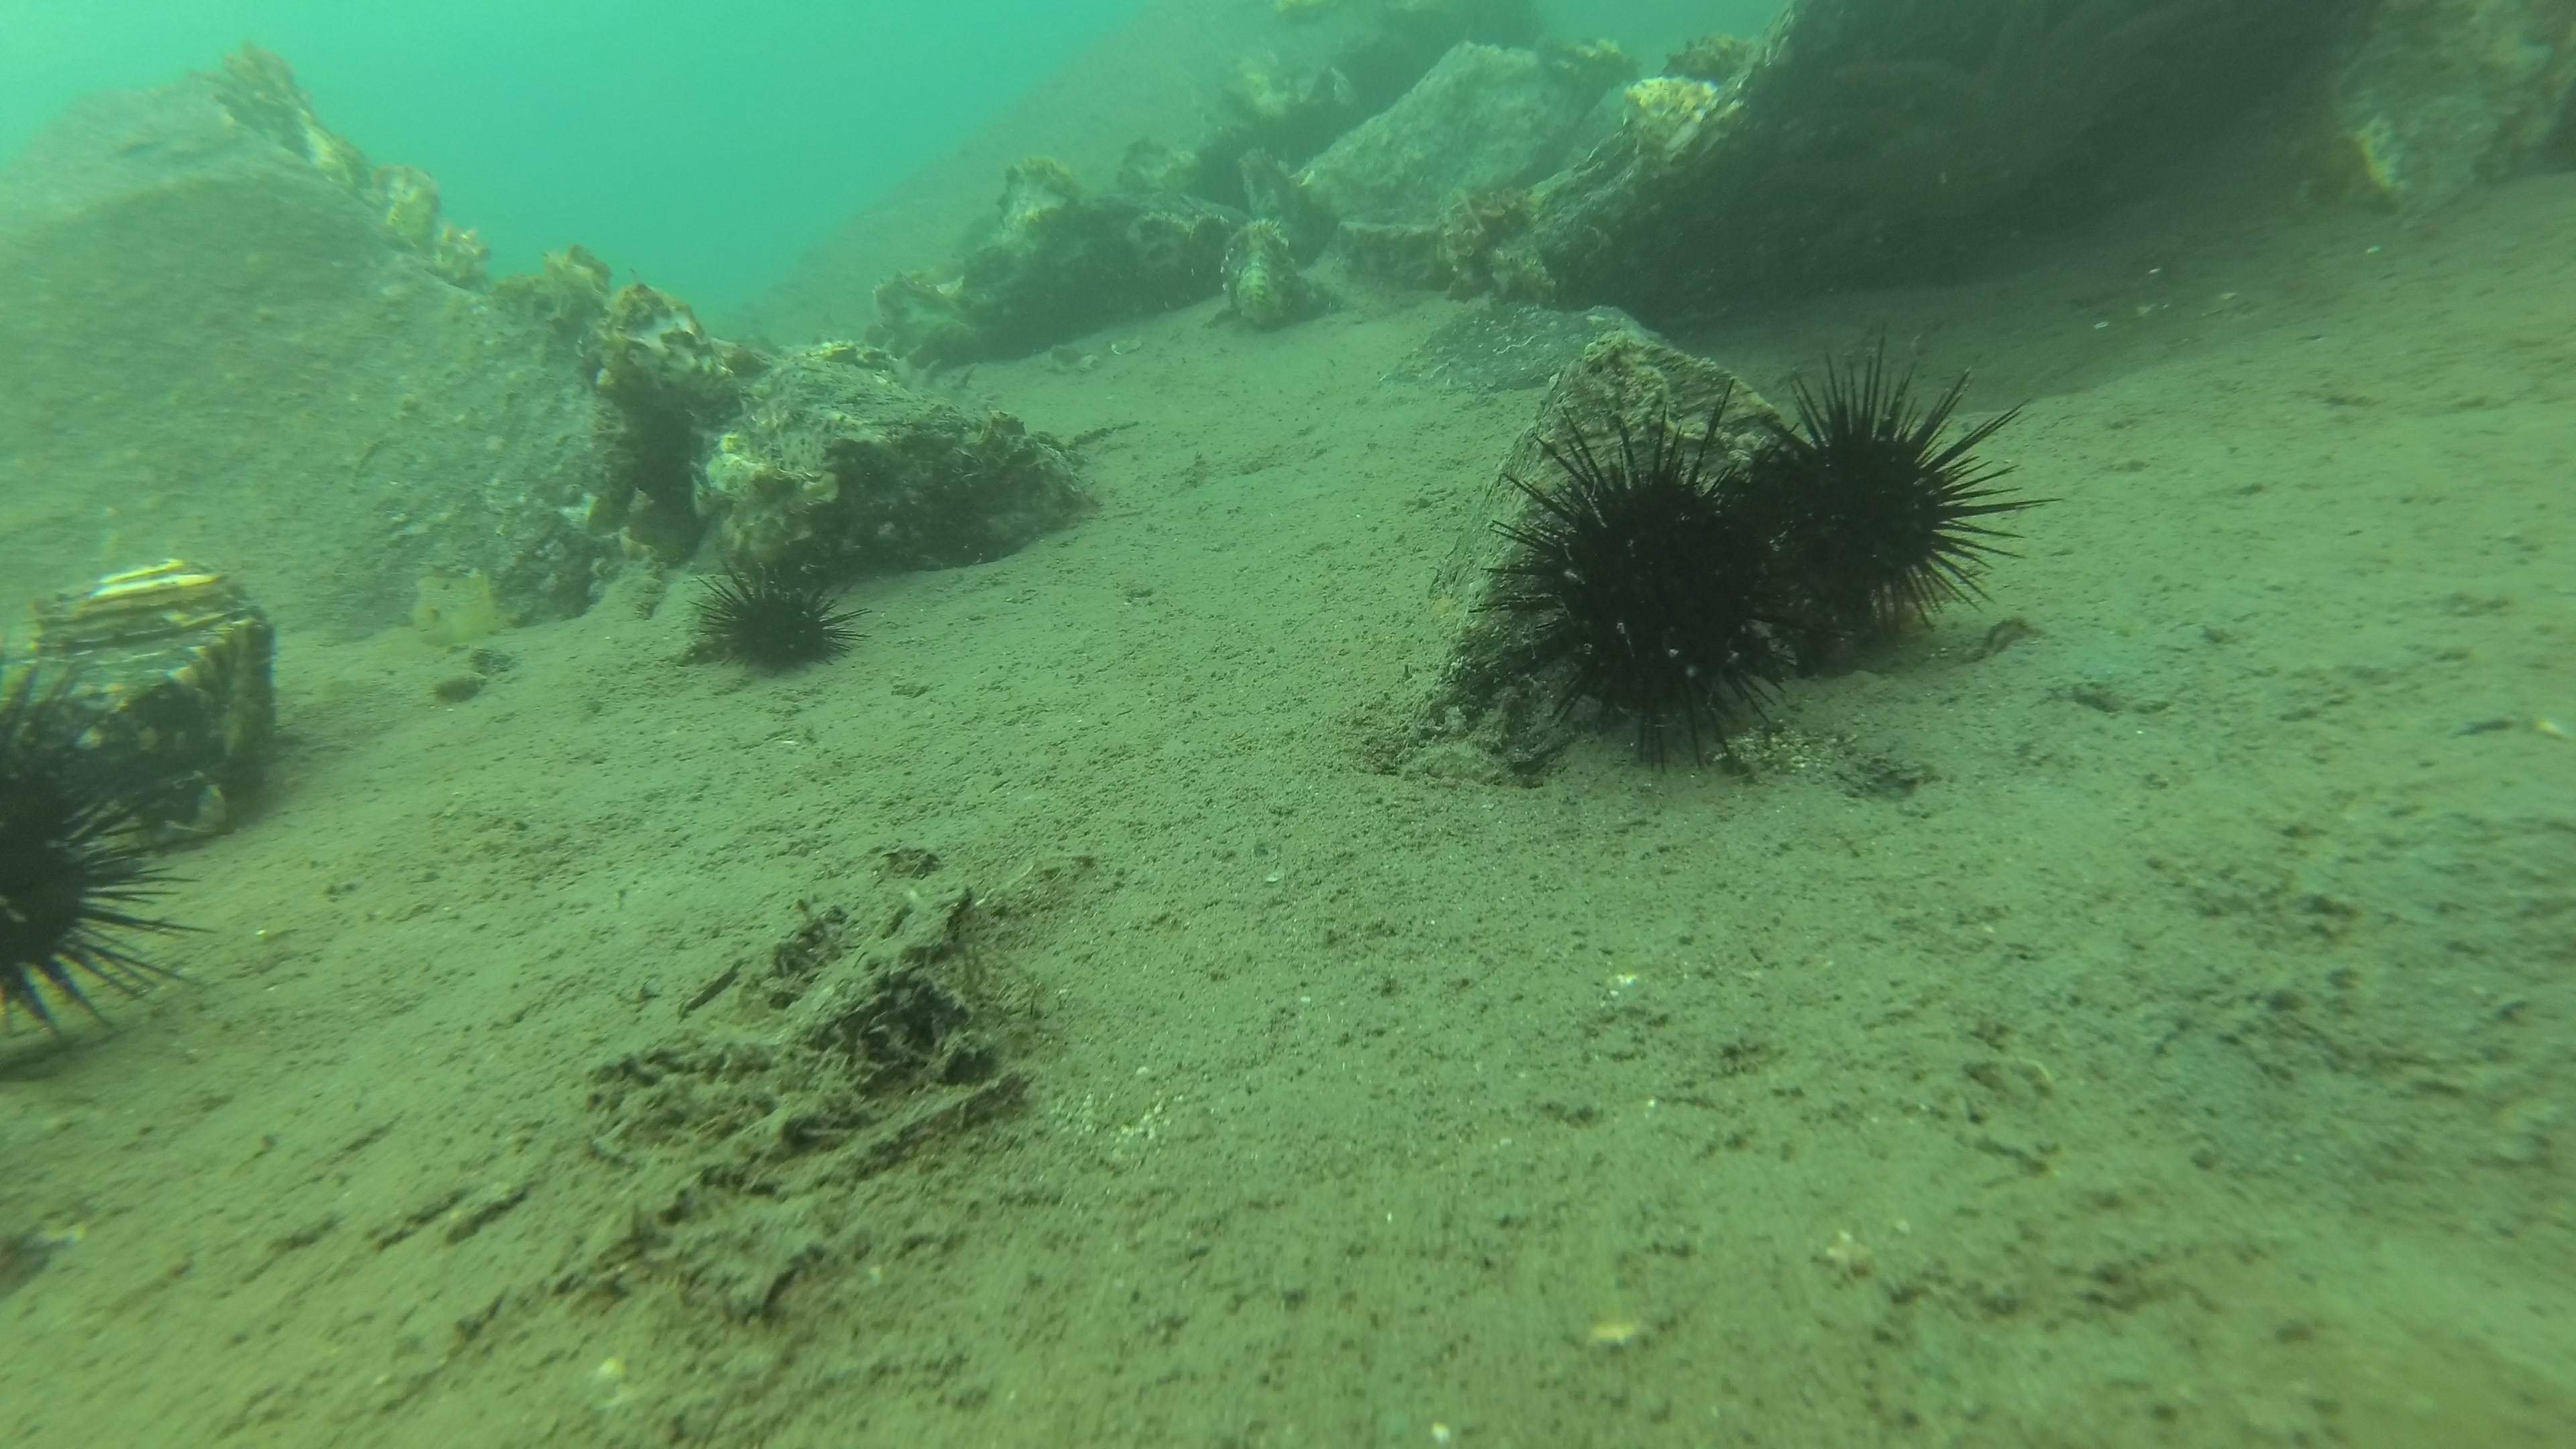echinus: (1465, 370, 1854, 771), (1737, 317, 2068, 642), (0, 653, 223, 1060), (688, 557, 878, 676)
holothurian: (881, 336, 1001, 412)
starfish: (1803, 0, 2192, 248)
